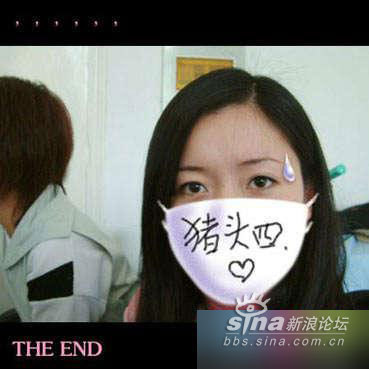face_mask: (163, 109, 304, 302)
